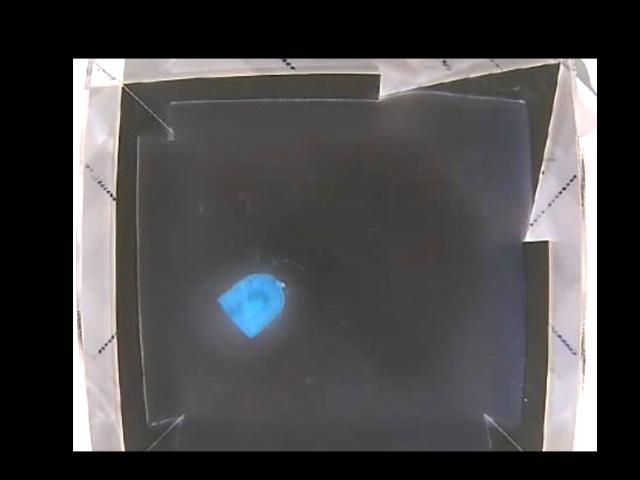Carrot: (217, 273, 284, 335)
